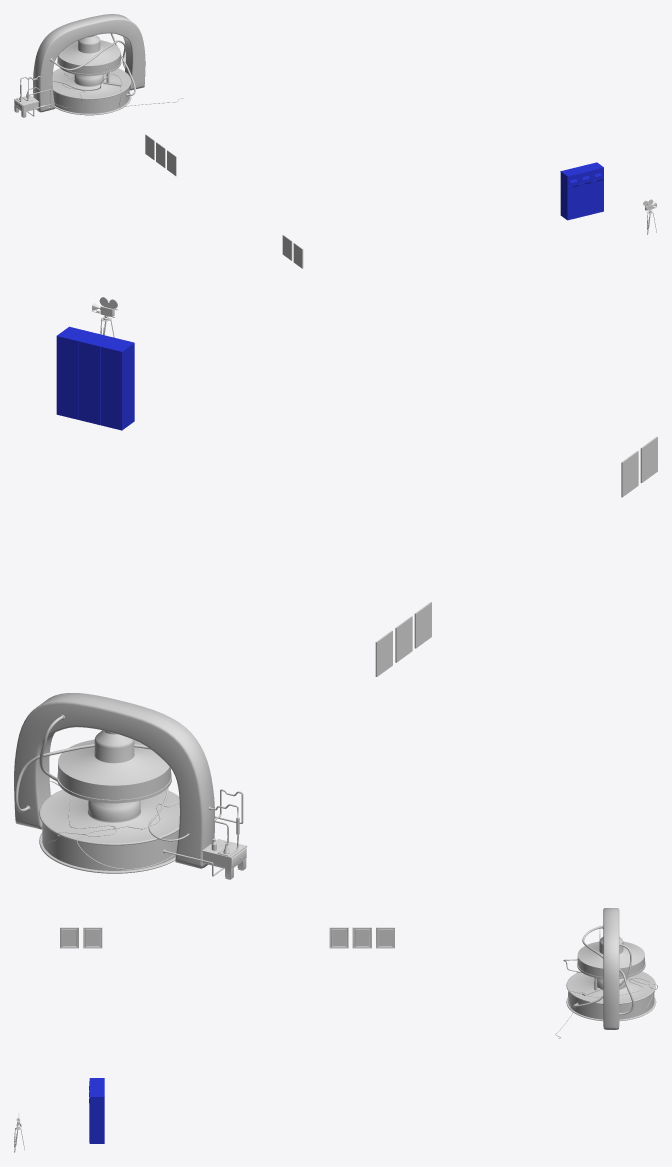
The model's file is furkanrevizemodel.fbx.
3 renders of one model, top to bottom at view 1: azimuth 30°, elevation 25°; view 2: azimuth 150°, elevation 25°; view 3: azimuth 270°, elevation 25°, orthographic. The views are drawn at different scales.
Parts seen in each view (by area): view 1: SM_ParticleAccelerator, SM_FinalroomMetalCabinet1, SM_PictureFrame3; view 2: SM_ParticleAccelerator, SM_FinalroomMetalCabinet1, SM_PictureFrame3, SM_ParticleTable; view 3: SM_ParticleAccelerator, SM_PictureFrame3, SM_FinalroomMetalCabinet1.
Boxes of the visible parts, left/top/right/bottom form: SM_ParticleAccelerator: left=16, top=14, right=183, bottom=116; SM_FinalroomMetalCabinet1: left=560, top=162, right=603, bottom=220; SM_PictureFrame3: left=145, top=134, right=303, bottom=268; SM_ParticleAccelerator: left=14, top=693, right=243, bottom=876; SM_FinalroomMetalCabinet1: left=56, top=326, right=134, bottom=430; SM_PictureFrame3: left=375, top=436, right=657, bottom=676; SM_ParticleTable: left=202, top=839, right=247, bottom=879; SM_ParticleAccelerator: left=555, top=908, right=657, bottom=1038; SM_PictureFrame3: left=60, top=927, right=394, bottom=948; SM_FinalroomMetalCabinet1: left=89, top=1078, right=104, bottom=1143.
Bounding box in the file's own units: 1838 × 378 × 2659.
